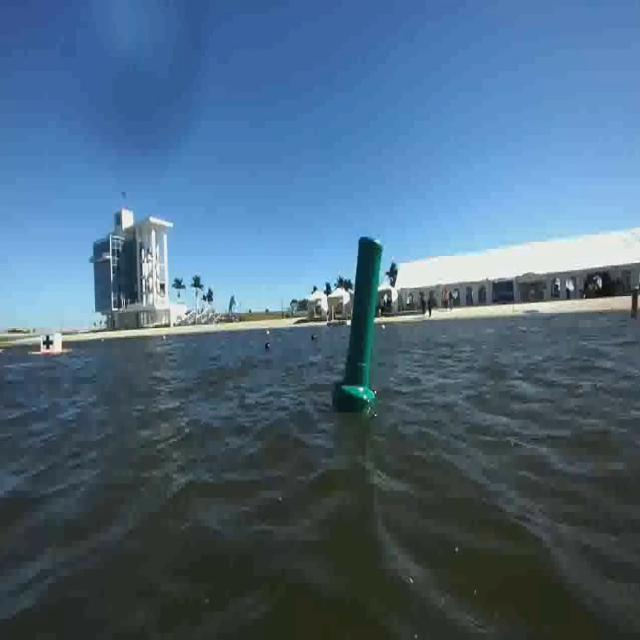green-column-buoy: (337, 234, 383, 413)
